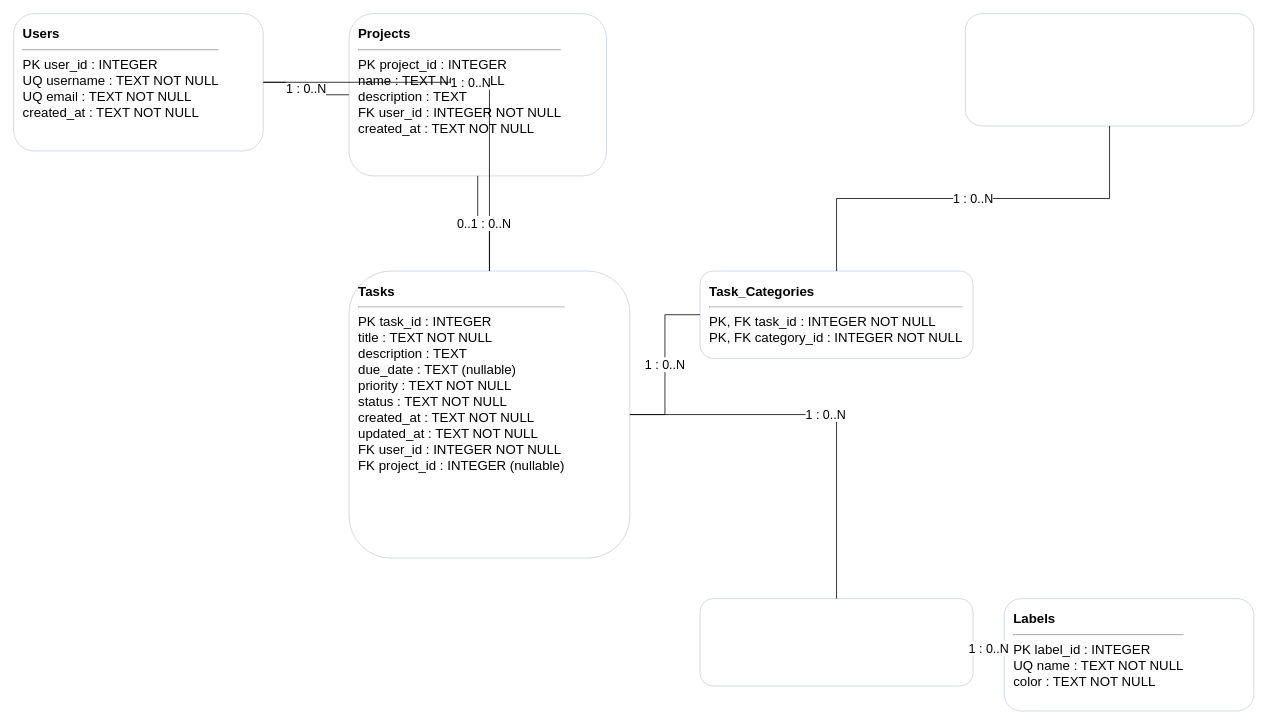
Image size: 1268x725. Some labels were removed from this diagram. The centre of each missing label's shape, as x and y in pixels:
Categories PK category_id : INTEGER UQ name : TEXT NOT NULL description : TEXT: the point at 1109,69
Task_Labels PK, FK task_id : INTEGER NOT NULL PK, FK label_id : INTEGER NOT NULL: the point at 836,642
